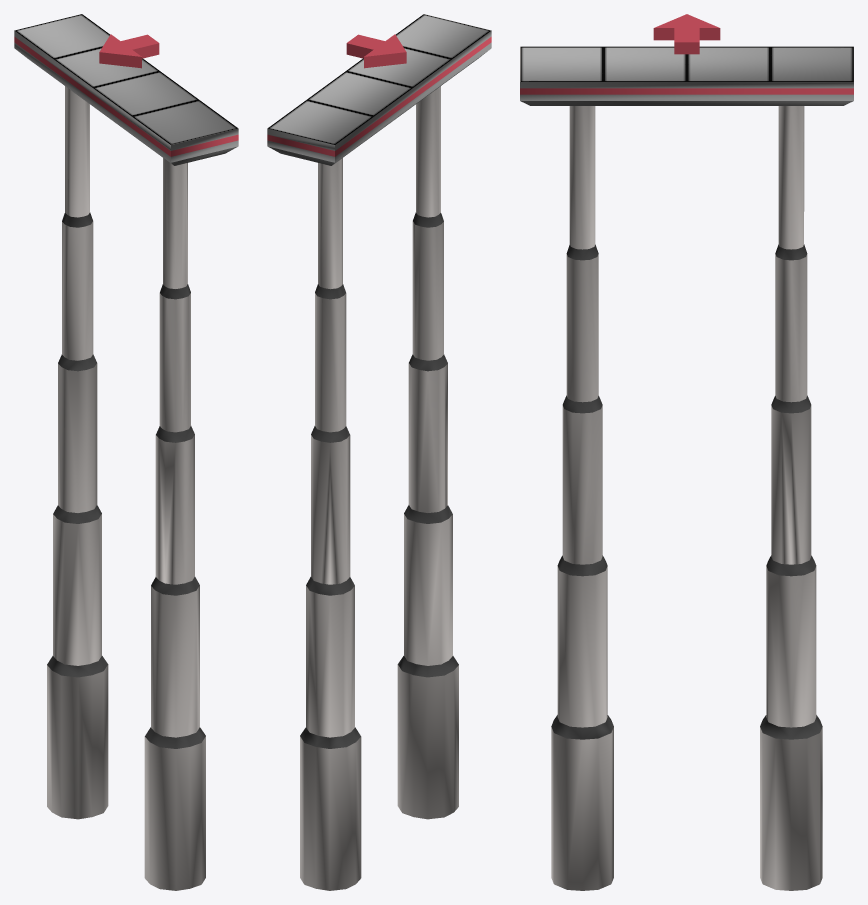
The model's file is piston_stair.obj.
The picture shows the model from 3 angles, left to right: view 1: azimuth 30°, elevation 25°; view 2: azimuth 150°, elevation 25°; view 3: azimuth 270°, elevation 25°; orthographic projection. The views are drawn at different scales.
Visible parts, largest first — view 1: piston_stair_model_0.mdl/piston_stair_model_0.smd.001, Cube.005, Cube.004; view 2: piston_stair_model_0.mdl/piston_stair_model_0.smd.001, Cube.005, Cube.004; view 3: piston_stair_model_0.mdl/piston_stair_model_0.smd.001, Cube.005, Cube.004.
Boxes of the visible parts, bbox=[...] form: piston_stair_model_0.mdl/piston_stair_model_0.smd.001: bbox=[14, 14, 238, 890]; Cube.005: bbox=[99, 34, 141, 68]; Cube.004: bbox=[121, 34, 159, 58]; piston_stair_model_0.mdl/piston_stair_model_0.smd.001: bbox=[267, 14, 491, 890]; Cube.005: bbox=[364, 34, 406, 68]; Cube.004: bbox=[346, 34, 384, 58]; piston_stair_model_0.mdl/piston_stair_model_0.smd.001: bbox=[520, 46, 853, 890]; Cube.005: bbox=[653, 14, 720, 40]; Cube.004: bbox=[674, 28, 699, 54].
Size of the model in its own units: 0.5 by 5.61 by 2.
